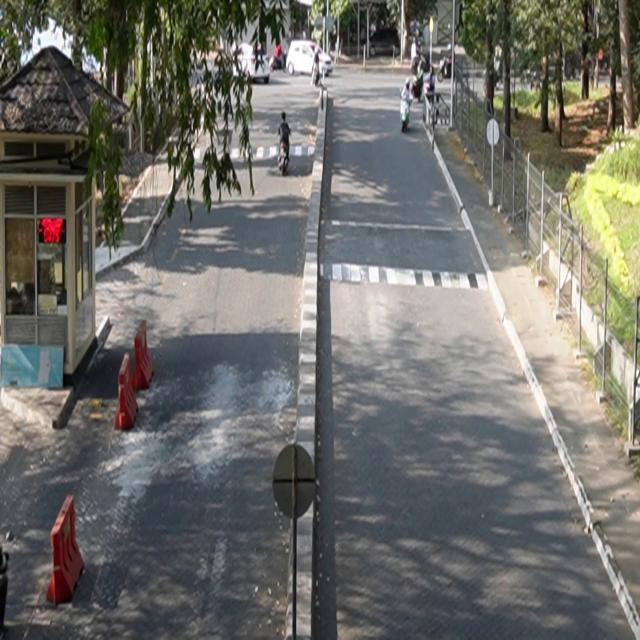car: (287, 40, 335, 78), (232, 43, 272, 85)
